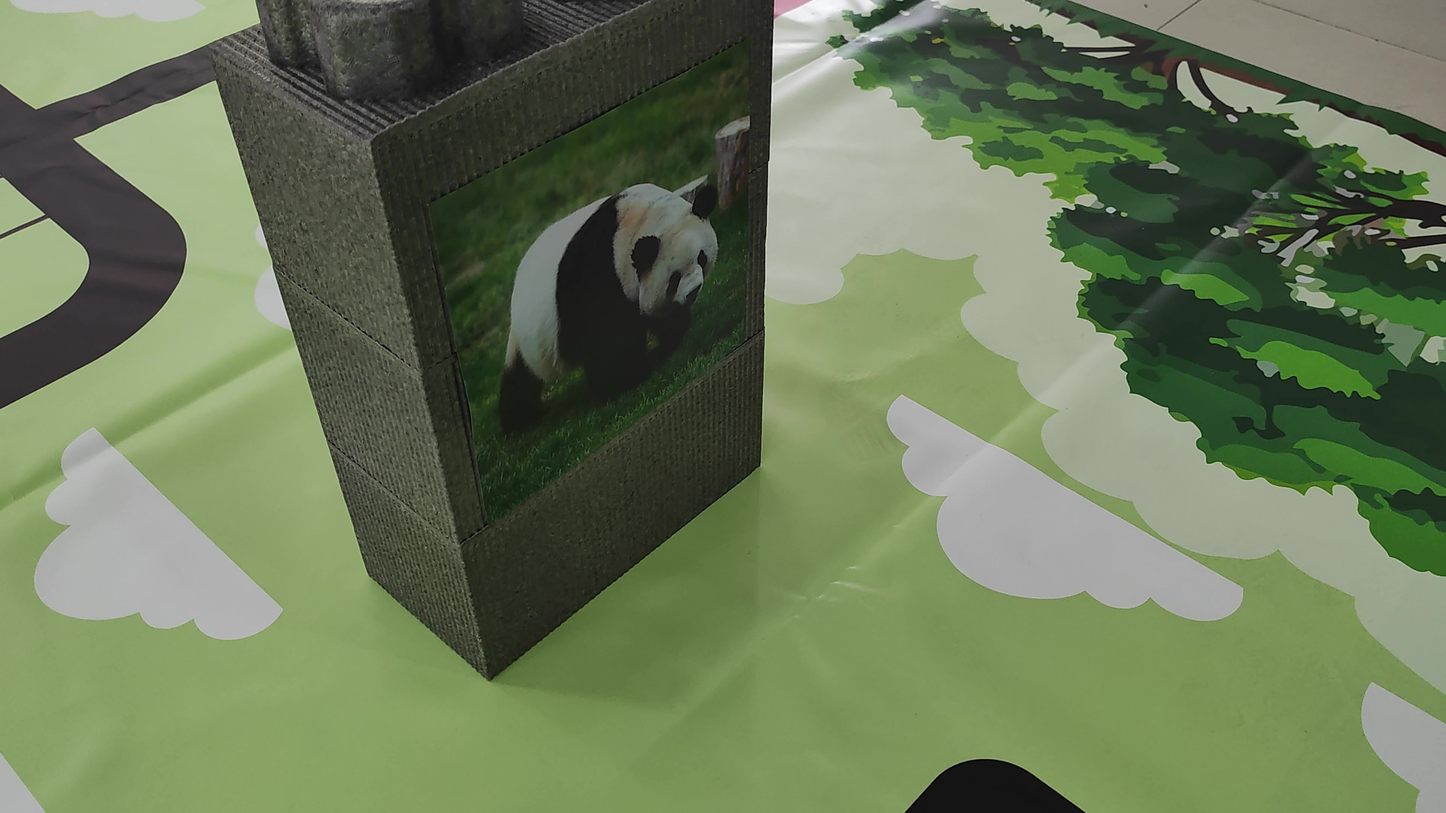panda: (486, 156, 765, 403)
